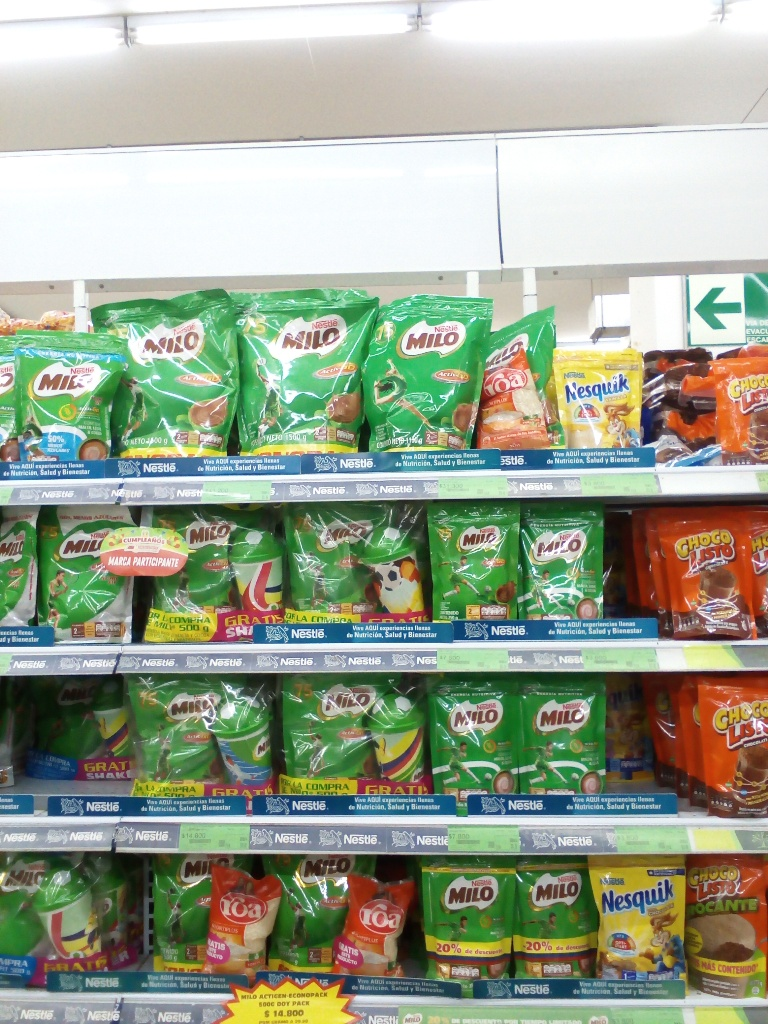COL0170203DYP50000: (144, 504, 242, 635)
COL0170205DYP50000: (45, 509, 132, 646)
COL0170303DYP20000: (593, 858, 687, 991)
COL0170306DYP20000: (548, 346, 651, 448)
